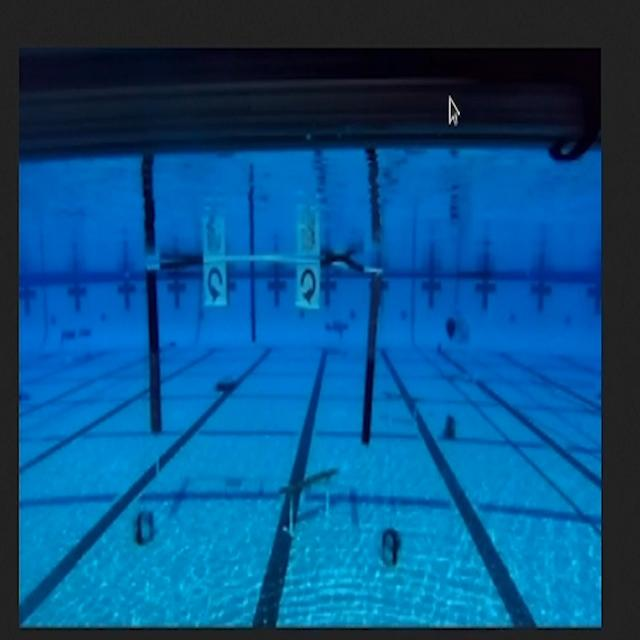Gate: (132, 235, 389, 468)
Path: (266, 458, 351, 540)
